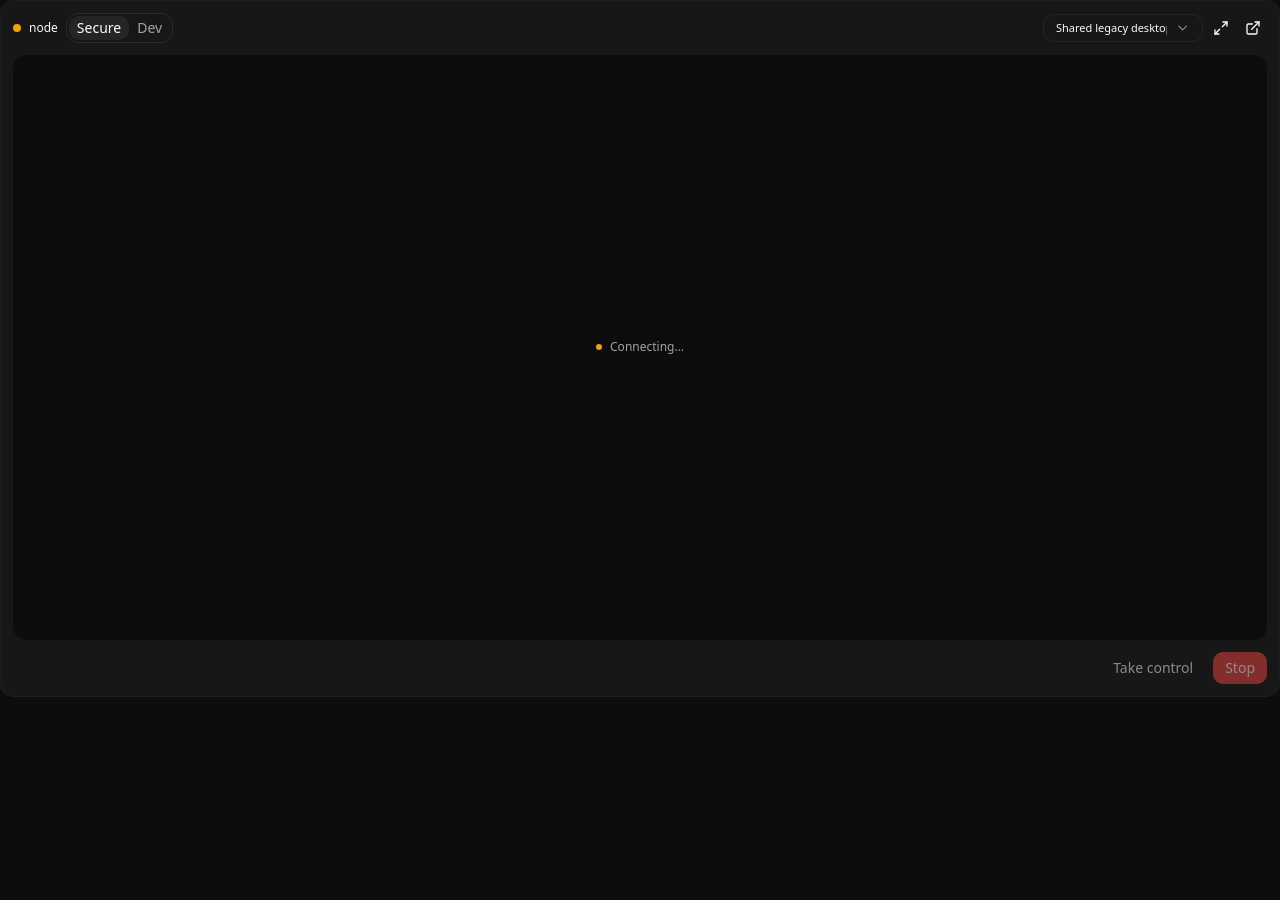
Test case: offers named context choices without exposing context ids in labels
Click the dropdown named "Desktop context": [1123, 28] box left=1043, top=14, right=1203, bottom=42
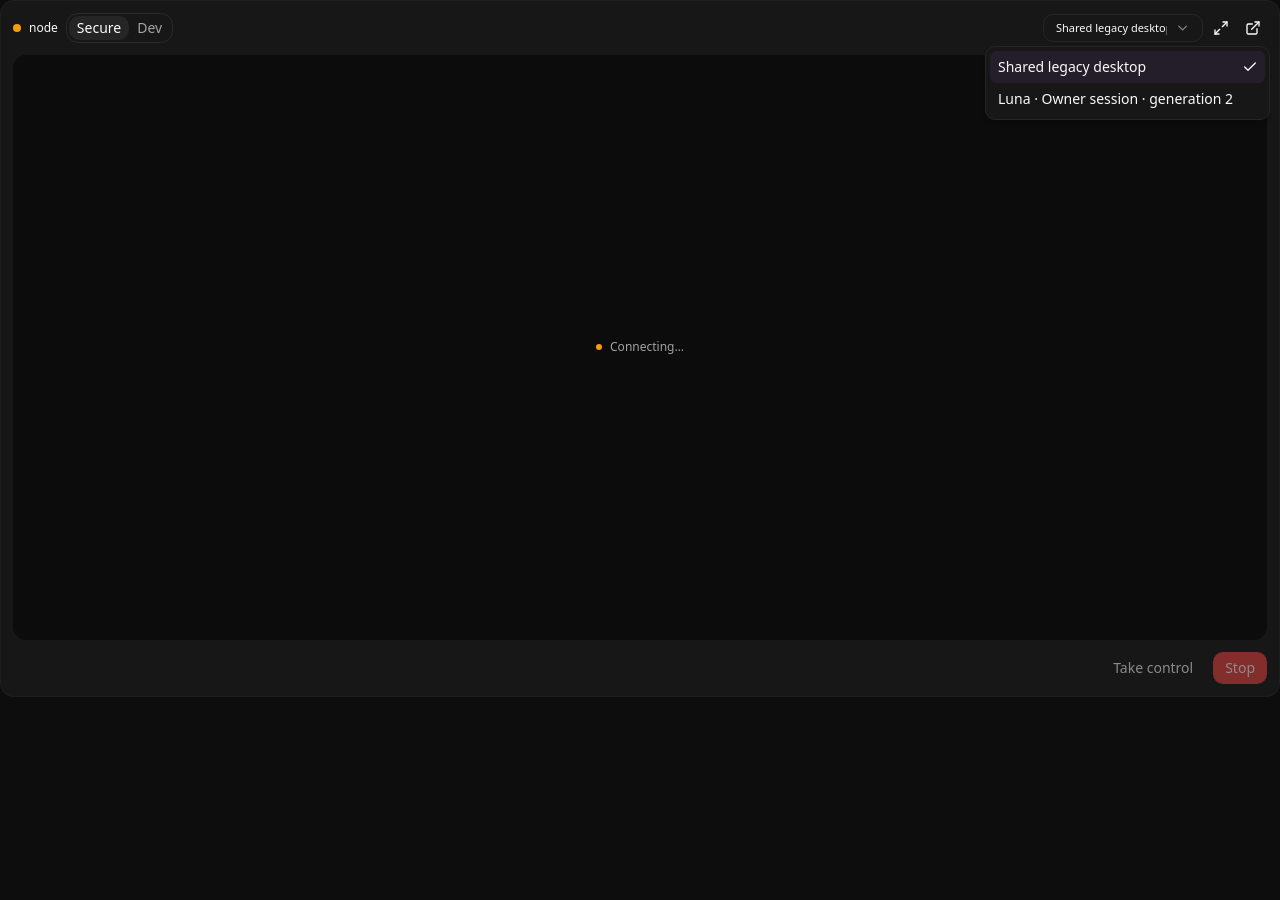
Expected: the option "Luna · Owner session · generation 2" is shown, left=998, top=89, right=1233, bottom=108
